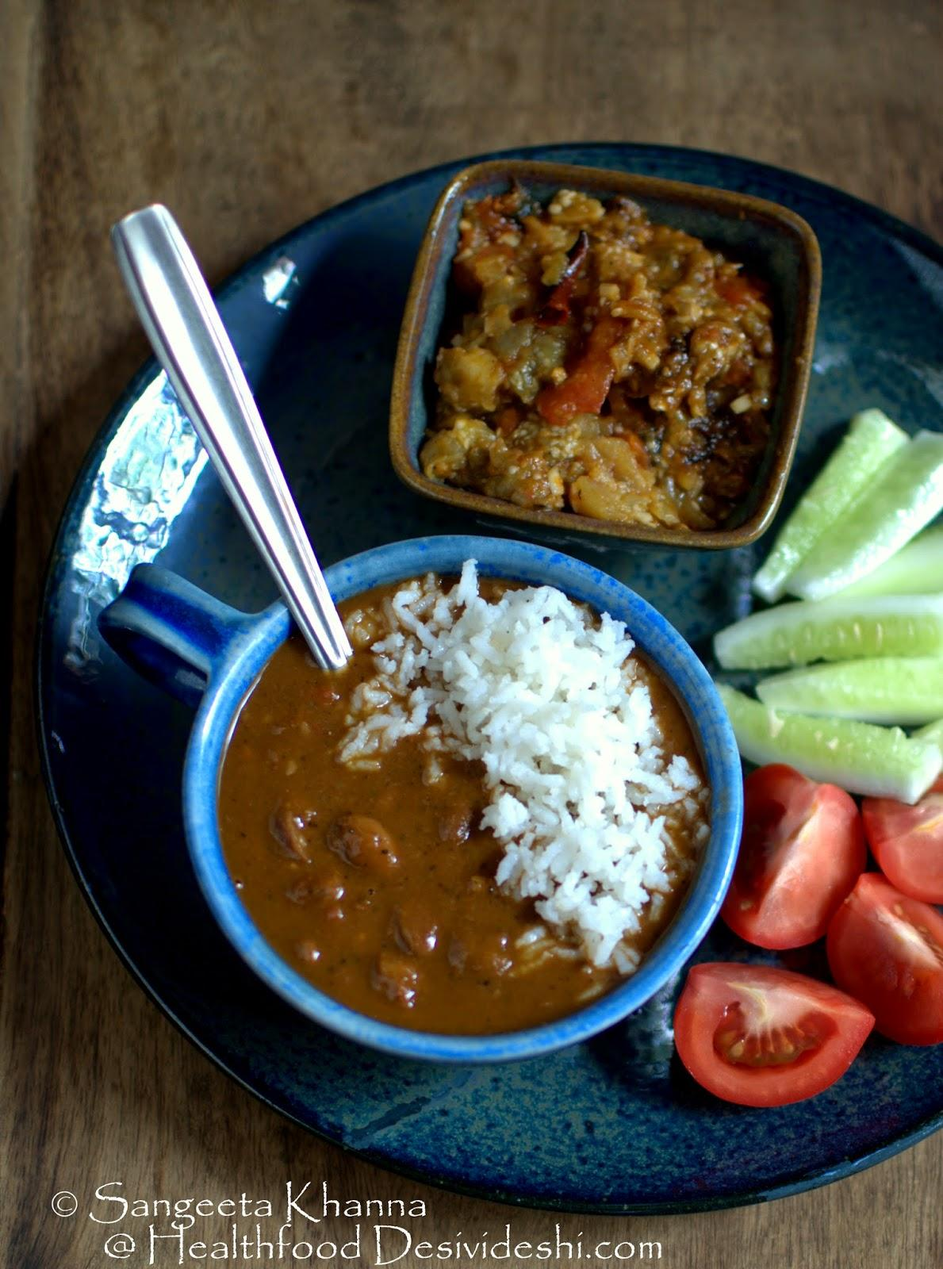rajma: (242, 702, 476, 1051)
rice: (504, 619, 670, 912)
